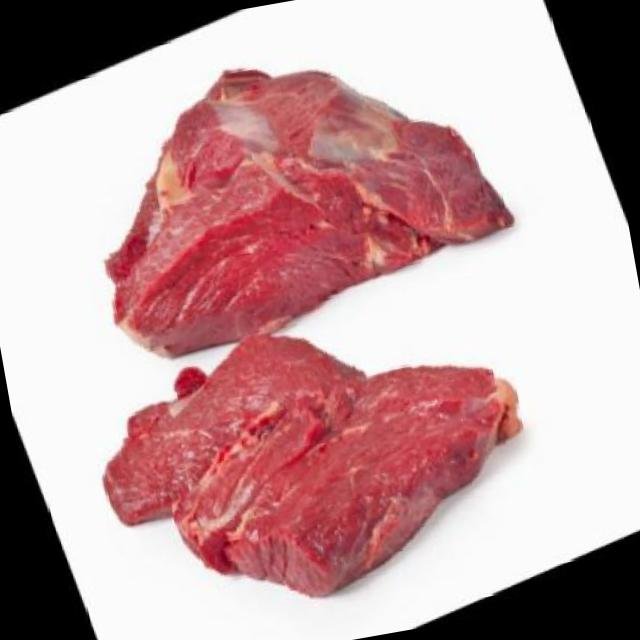beaf: (54, 234, 572, 640), (28, 0, 539, 403)
